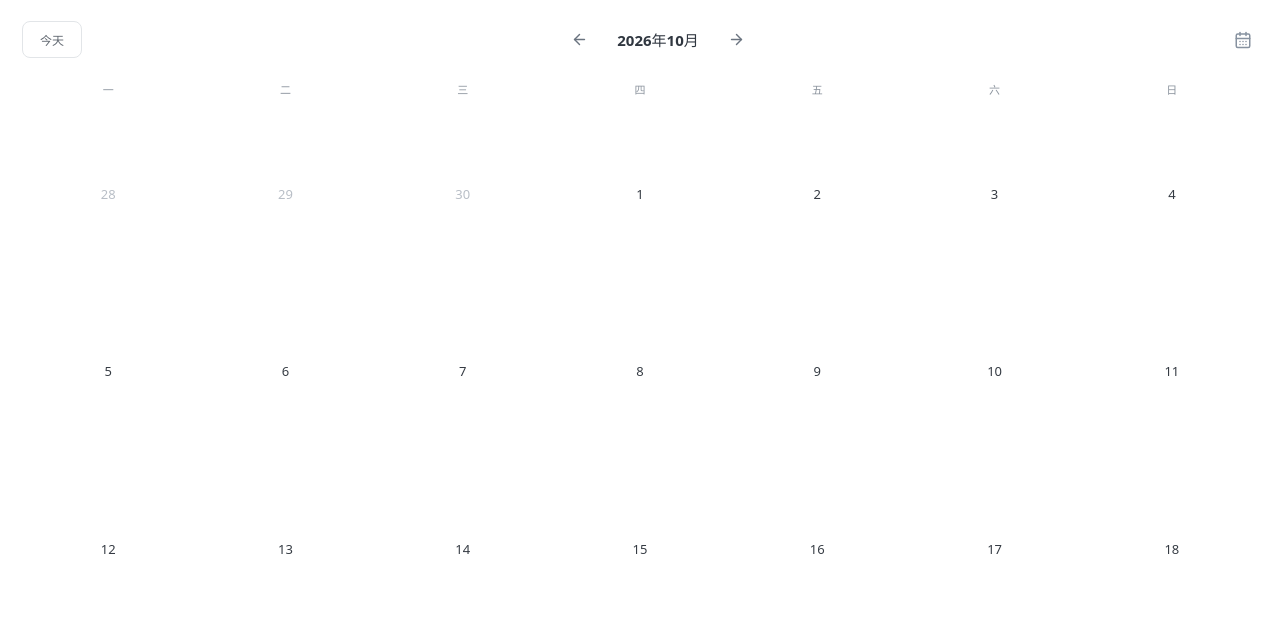
Test: CalendarPanel › keeps a manually browsed month when the local date changes
The image size is (1280, 640).
Click the button named "上个月": coordinates (580, 40) [564,24,594,54]
Wait 1100 ms
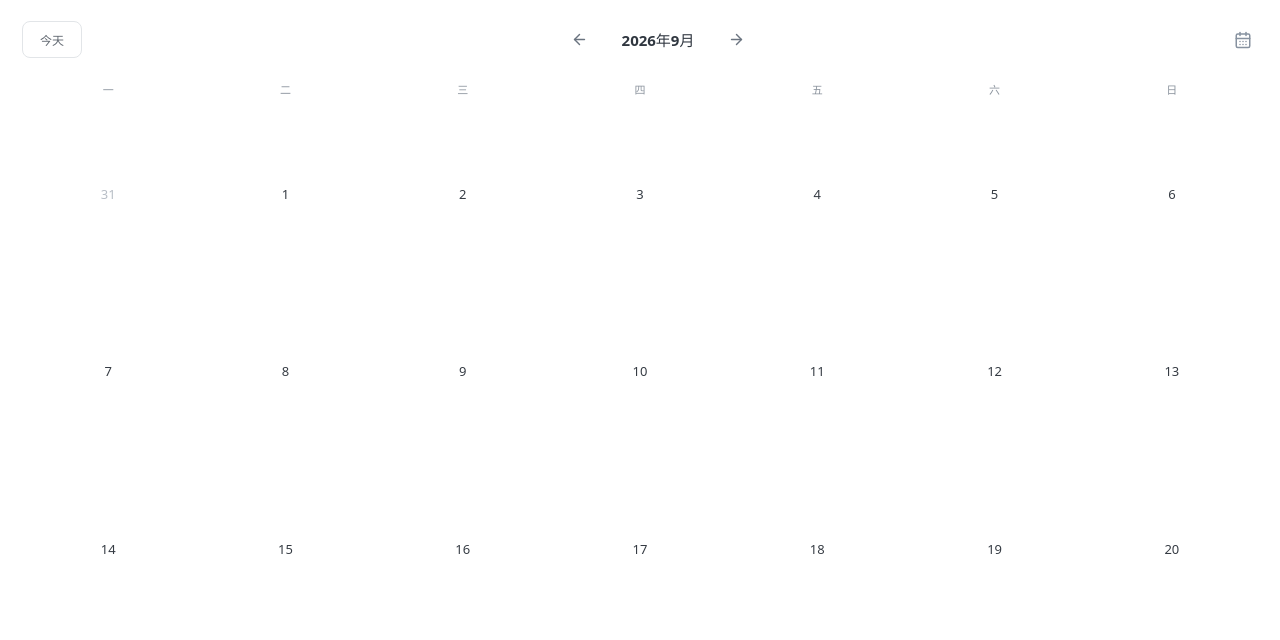
expect the heading "2026年9月" is shown: met, box [622,30,694,50]
